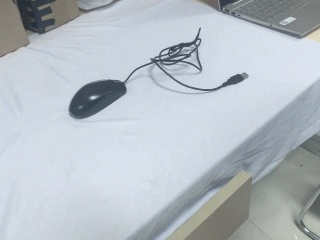box: (12, 1, 80, 36), (1, 1, 30, 61)
mouse: (68, 78, 128, 121)
